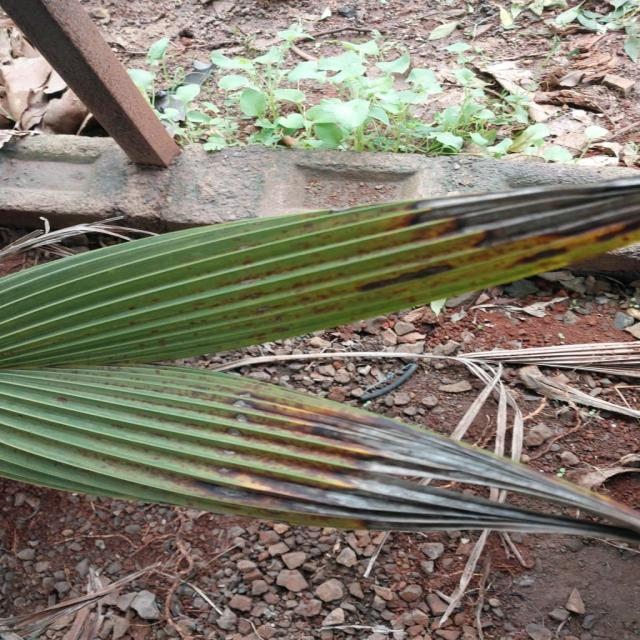gray leaf spot: (0, 184, 640, 543)
